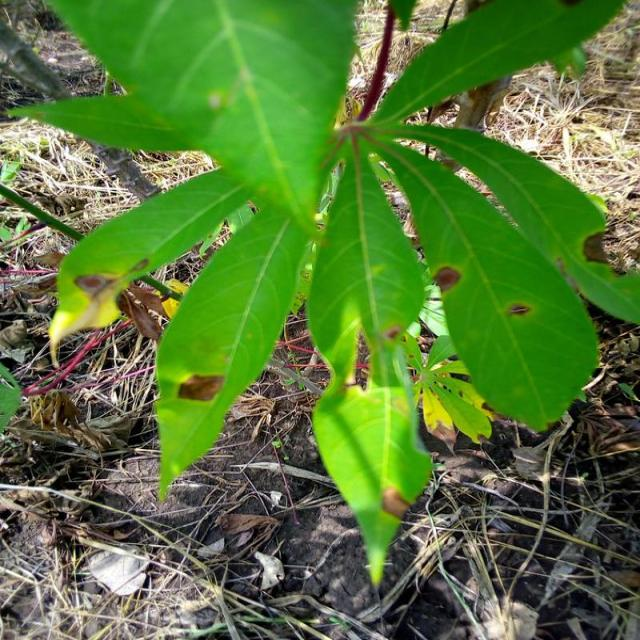cassava leaf: (7, 0, 638, 587), (367, 130, 600, 433), (153, 203, 309, 501)
